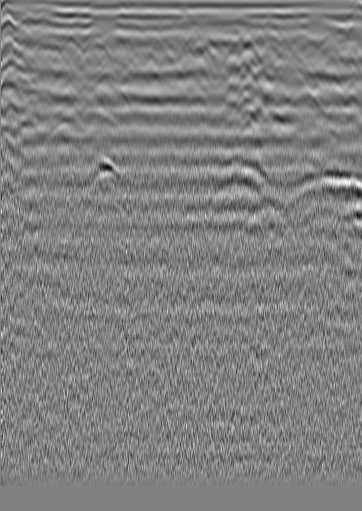가스: (87, 155, 119, 187)
상수: (318, 32, 338, 52)
오수: (35, 11, 55, 31)
우수: (199, 37, 219, 57)
